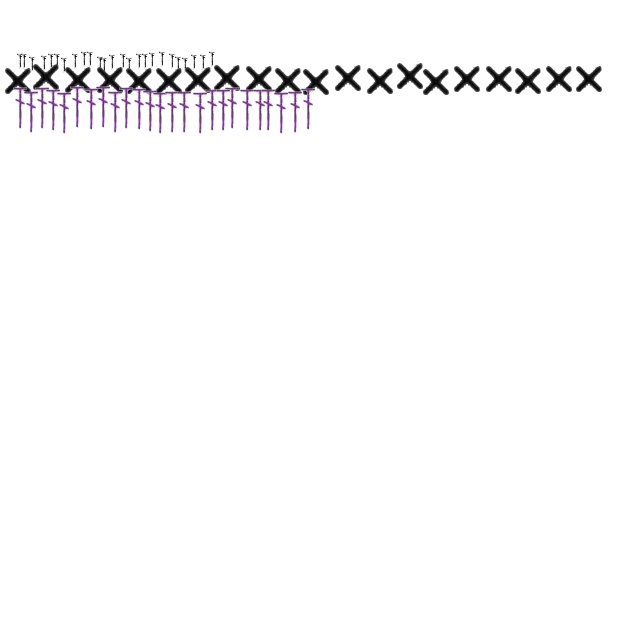double: (2, 63, 34, 97), (30, 59, 62, 93), (62, 62, 94, 96), (94, 62, 126, 96), (123, 63, 155, 97), (153, 63, 185, 97), (182, 62, 214, 96), (211, 60, 243, 94), (243, 61, 275, 95), (272, 63, 304, 97), (300, 64, 332, 98), (332, 60, 364, 94), (364, 63, 396, 97), (394, 58, 426, 92), (420, 64, 452, 98), (451, 61, 483, 95), (483, 61, 515, 95), (512, 63, 544, 97), (543, 61, 575, 95), (573, 61, 605, 95)
double treble: (13, 85, 27, 129), (24, 89, 38, 133), (35, 85, 49, 129), (46, 87, 60, 131), (57, 90, 71, 134), (70, 84, 84, 128), (84, 86, 98, 130), (96, 84, 110, 128), (108, 89, 122, 133), (119, 85, 133, 129), (132, 86, 146, 130), (143, 88, 157, 132), (153, 90, 167, 134), (165, 89, 179, 133), (177, 89, 191, 133), (193, 90, 207, 134), (205, 87, 219, 131), (216, 87, 230, 131), (225, 85, 239, 129), (240, 87, 254, 131), (253, 87, 267, 131), (261, 87, 275, 131), (274, 90, 288, 134), (288, 89, 302, 133), (301, 86, 315, 130), (17, 53, 23, 69), (21, 53, 27, 69), (29, 56, 35, 72), (41, 55, 47, 71), (48, 53, 54, 69), (54, 53, 60, 69), (61, 57, 67, 73), (72, 53, 78, 69), (81, 51, 87, 67), (87, 51, 93, 67), (97, 56, 103, 72), (101, 57, 107, 73), (109, 54, 115, 70), (120, 53, 126, 69), (126, 57, 132, 73), (136, 53, 142, 69), (142, 53, 148, 69), (149, 52, 155, 68), (159, 51, 165, 67), (169, 53, 175, 69), (175, 56, 181, 72), (182, 57, 188, 73), (191, 54, 197, 70), (200, 54, 206, 70), (209, 51, 215, 67)
